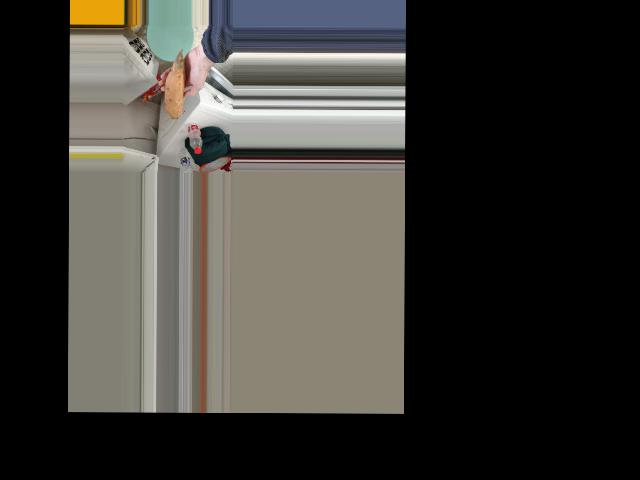sweet_potato: (168, 53, 186, 113)
